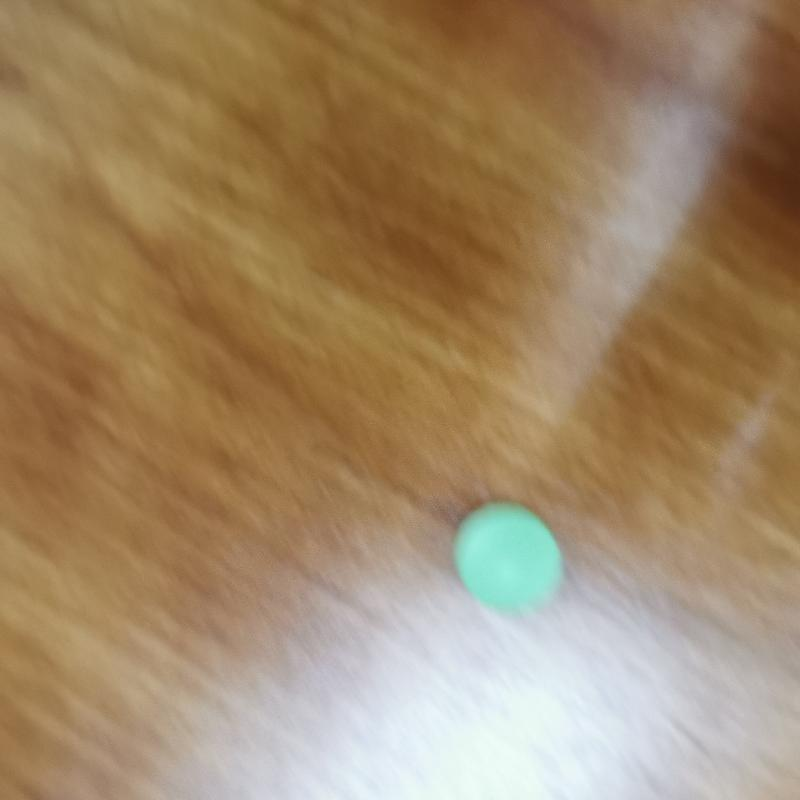pills: (450, 486, 572, 632)
